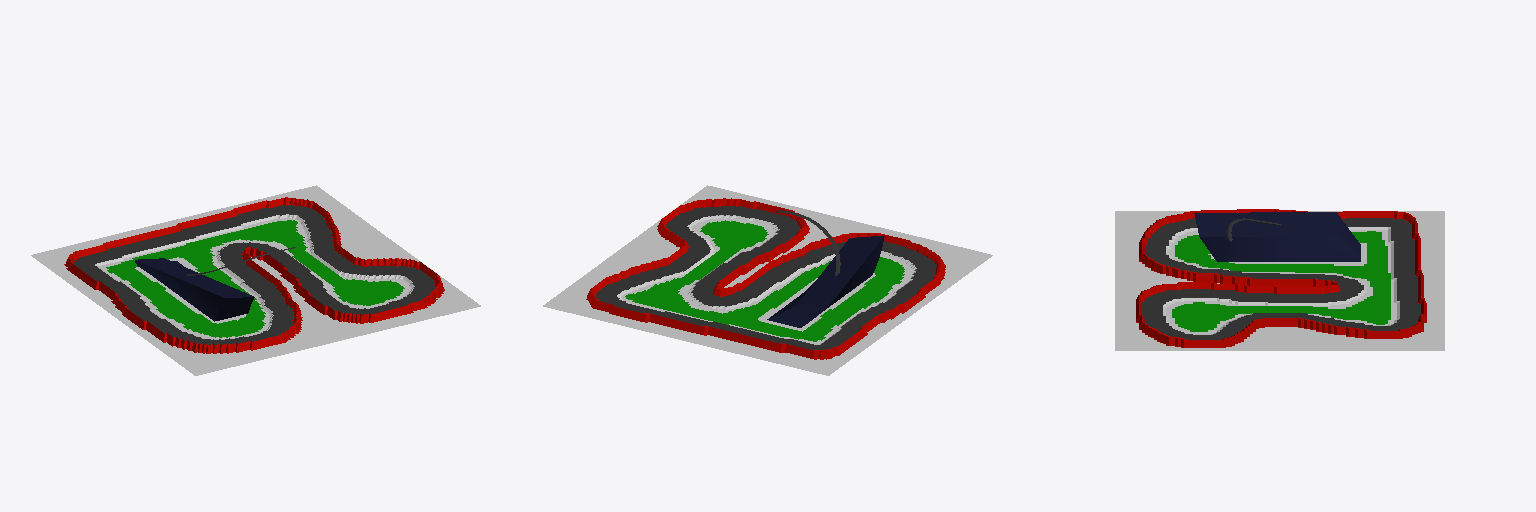
Rendered from racetrack.obj.
3 renders of one model, left to right at view 1: azimuth 30°, elevation 25°; view 2: azimuth 150°, elevation 25°; view 3: azimuth 270°, elevation 25°, orthographic.
Visible parts, largest first — view 1: Grid; view 2: Grid; view 3: Grid.
Part boxes in pixels (x1,y1,x2,y2): Grid: (31,185,480,375); Grid: (543,185,992,375); Grid: (1115,209,1444,350).
Bounding box in the file's own units: 1000 × 165 × 1000.